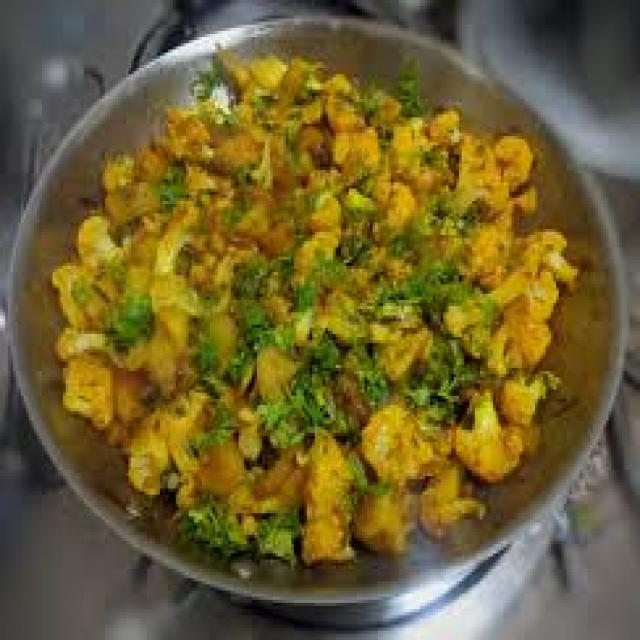Aloo Gobi: (62, 162, 275, 498)
